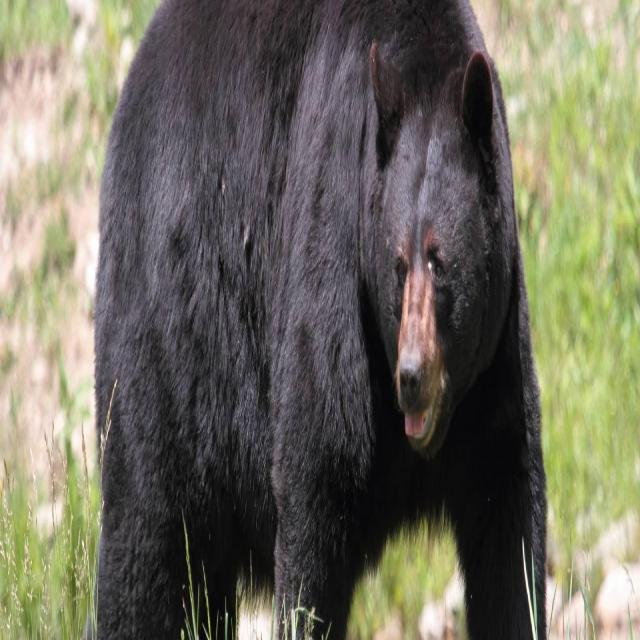Bear: (89, 0, 550, 640)
